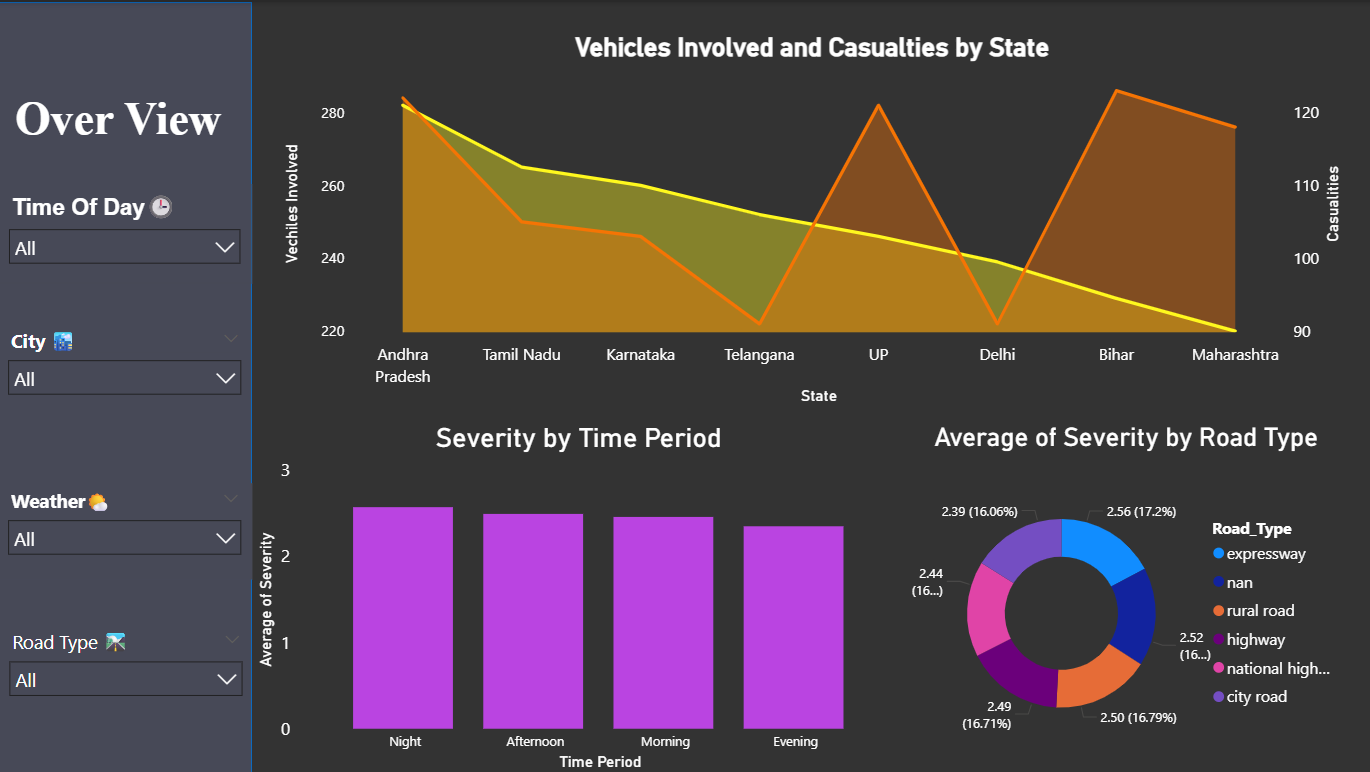

What the dashboard file says about the page in this screenshot:
{"tool":"powerbi","page":{"name":"Tactical Analysis","canvas":[1280,720],"ordinal":1},"visuals":[{"type":"areaChart","title":"Vehicles Involved and Casualties by State","fields":{"Category":["cleaned_accidents.State"],"Y":["Sum(cleaned_accidents.Vehicles_Involved)"],"Y2":["Sum(cleaned_accidents.Casualties)"]},"box":[262.1,27.4,993.5,351.3],"z":6000},{"type":"columnChart","title":"Severity by Time Period","fields":{"Category":["cleaned_accidents.Time_Period"],"Y":["Avg(cleaned_accidents.Severity)"]},"box":[237.4,391.1,607.9,329.3],"z":7000},{"type":"donutChart","title":"Average of Severity by Road Type","fields":{"Category":["cleaned_accidents.Road_Type"],"Y":["Avg(cleaned_accidents.Severity)"]},"box":[845,391,410,329],"z":8000},{"type":"shape","box":[0,0,237.2,720.9],"z":8001},{"type":"slicer","fields":{"Values":["cleaned_accidents.Time_Period"]},"box":[0,169.8,237.2,91.9],"z":8002},{"type":"slicer","fields":{"Values":["cleaned_accidents.Weather"]},"box":[0,447.7,237.2,89.5],"z":8003},{"type":"slicer","fields":{"Values":["cleaned_accidents.Road_Type"]},"box":[1.2,579.1,237.2,83.7],"z":8004},{"type":"slicer","fields":{"Values":["cleaned_accidents.City"]},"box":[0,298.8,237.2,93],"z":8005},{"type":"textbox","box":[11.6,79.1,208.1,75.6],"z":8006}]}

Visuals, with their boxes in screenshot pixels (x1, y1, x2, y2), scaled from the page's 1280x720 canvas onto the 1370x772 screenshot:
"Vehicles Involved and Casualties by State" areaChart: (281, 29, 1344, 406)
"Severity by Time Period" columnChart: (254, 419, 905, 771)
"Average of Severity by Road Type" donutChart: (904, 419, 1343, 771)
shape: (0, 0, 254, 771)
slicer - cleaned_accidents.Time_Period: (0, 182, 254, 281)
slicer - cleaned_accidents.Weather: (0, 480, 254, 576)
slicer - cleaned_accidents.Road_Type: (1, 621, 255, 711)
slicer - cleaned_accidents.City: (0, 320, 254, 420)
textbox: (12, 85, 235, 166)
